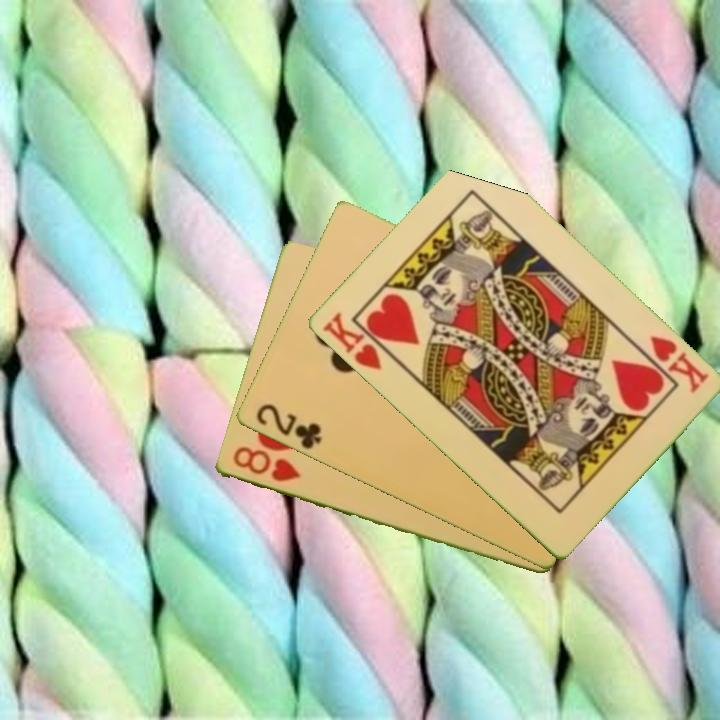2c: (252, 400, 324, 453)
8h: (229, 443, 303, 485)
Kh: (318, 308, 397, 373), (646, 332, 712, 396)
